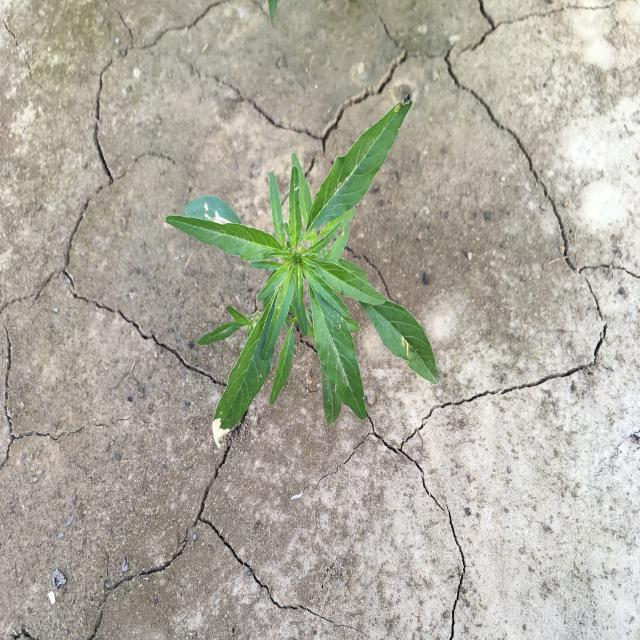Waterhemp: (163, 94, 440, 451)
